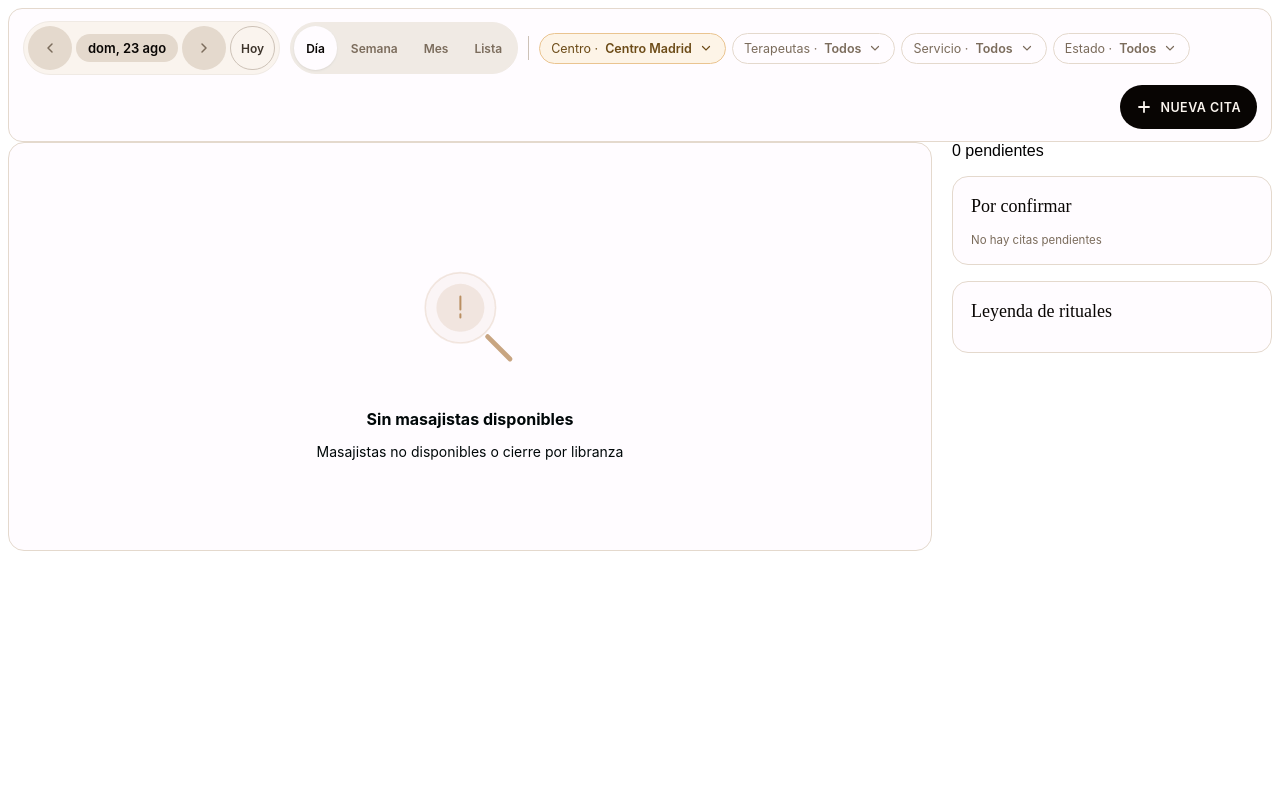
Test: AdminAgendaView — filter before cluster (OQ-1 / E7-via-filter) › an estado filter drops the 2-member group to a singleton (folder gone)
Click the button "Semana".
click(374, 48)  # box 339,26 -> 410,70
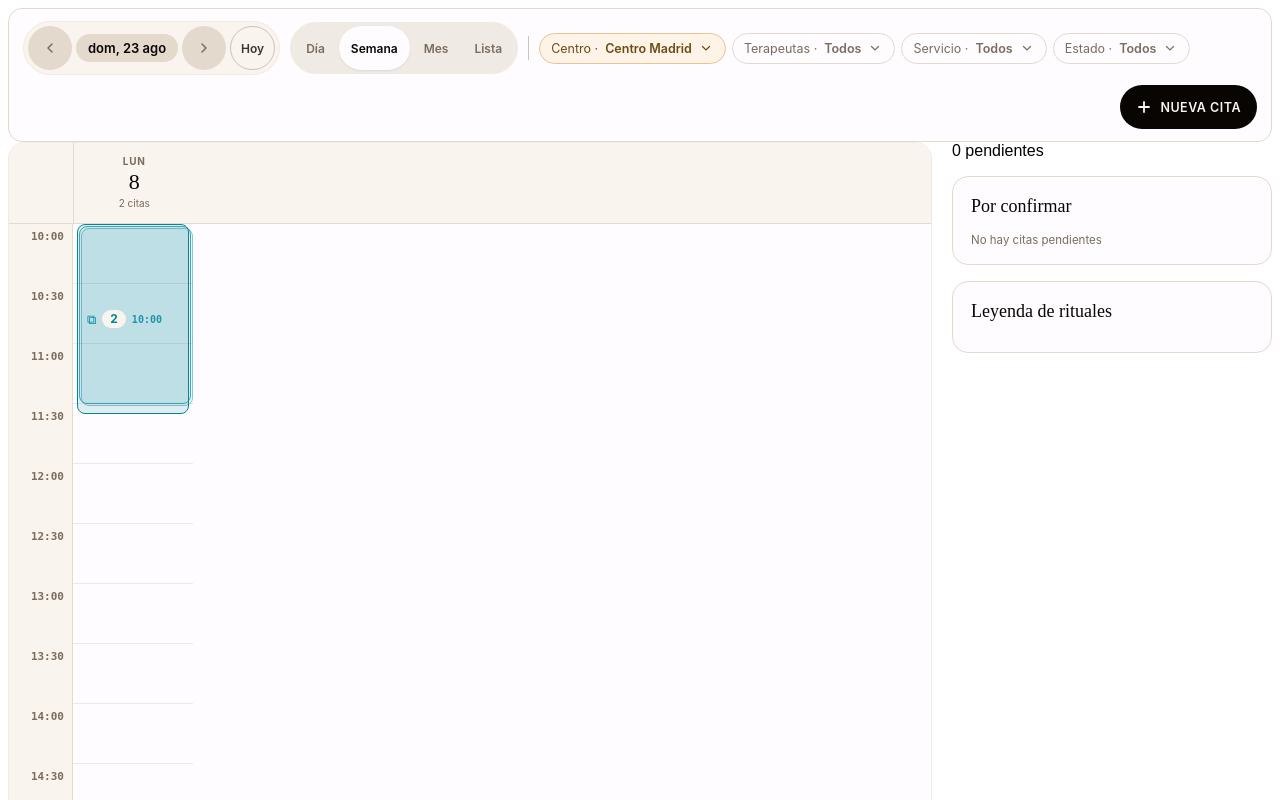
expect the button named "Grupo de 2 citas, 10:00–11:30" is shown: met, box 77,224 -> 189,414
Click the button "Estado · Todos".
click(1121, 48)  # box 1053,32 -> 1190,64
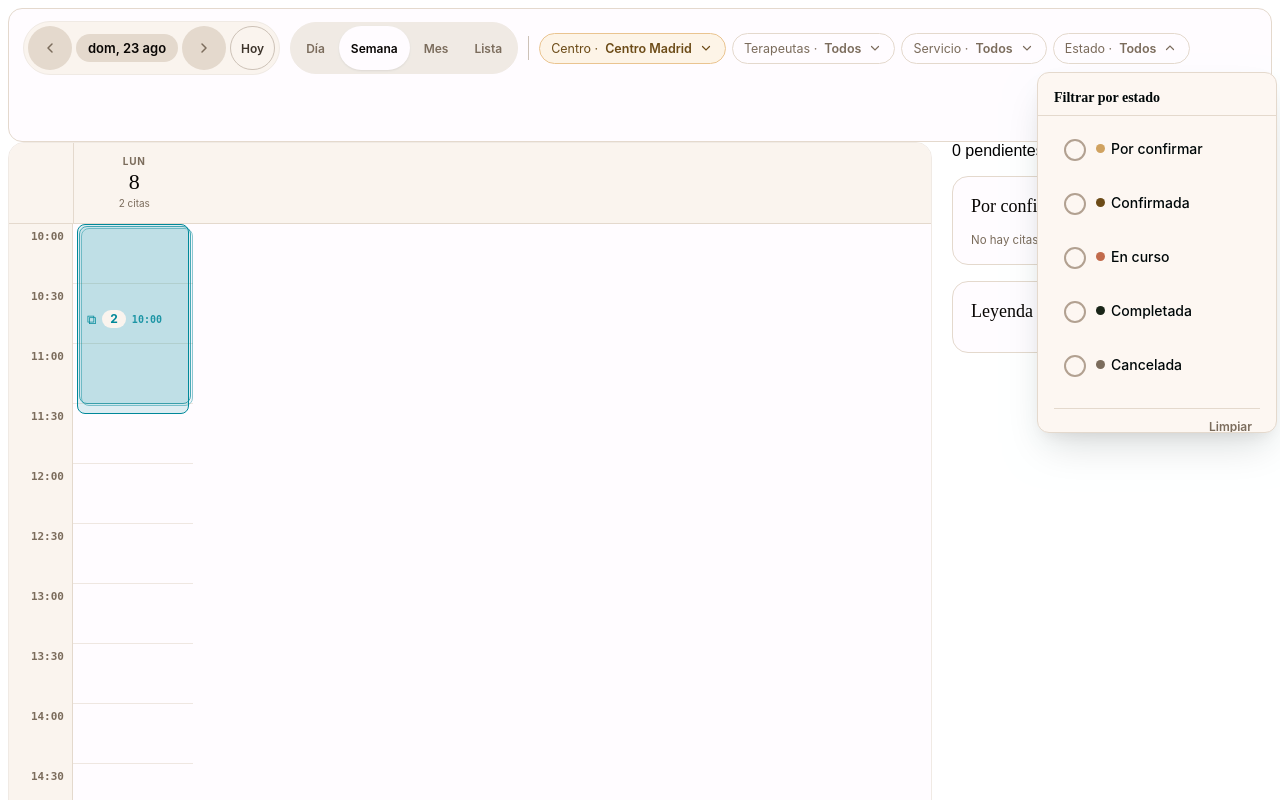
Click the radio button labelled "Confirmada".
click(1127, 203)  # box 1064,192 -> 1189,214
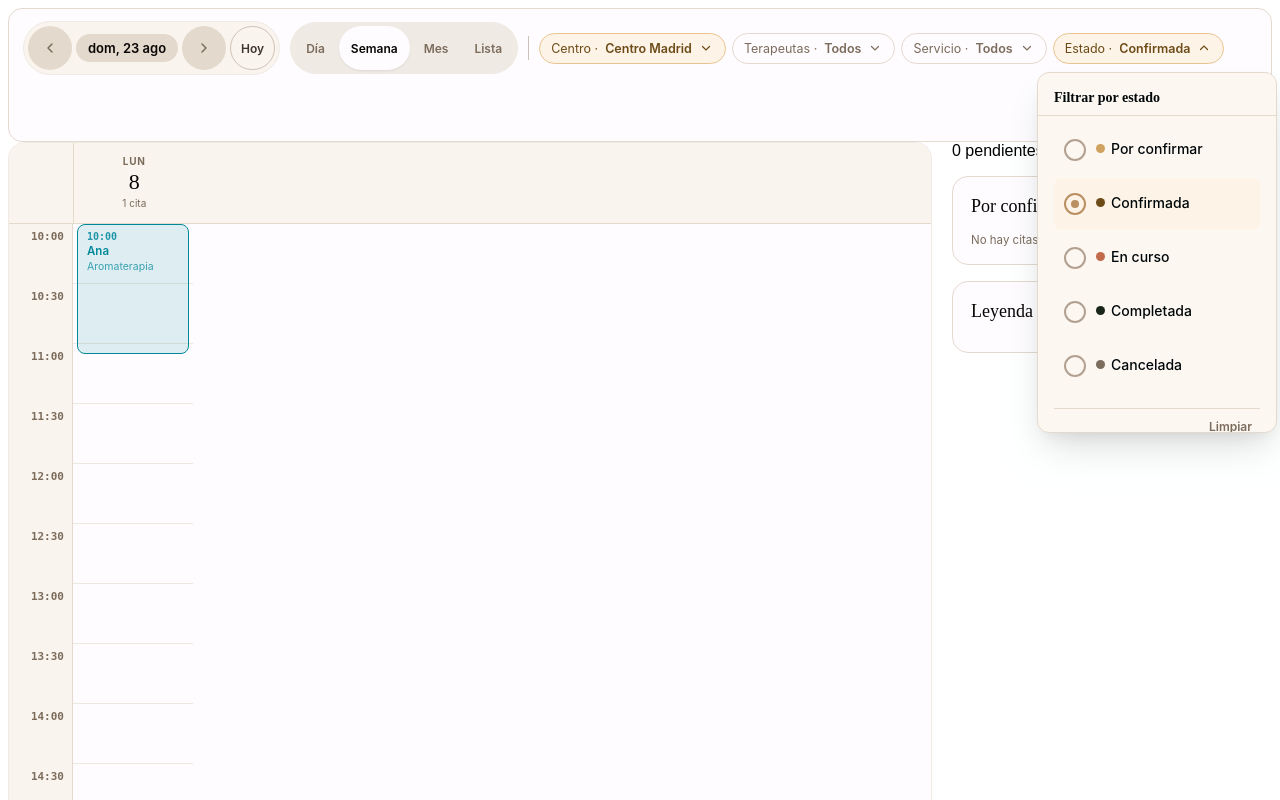
expect the button with aria-label "Ana · 10:00–11:00 · Aromaterapia" is shown: met, box 77,224 -> 189,354
